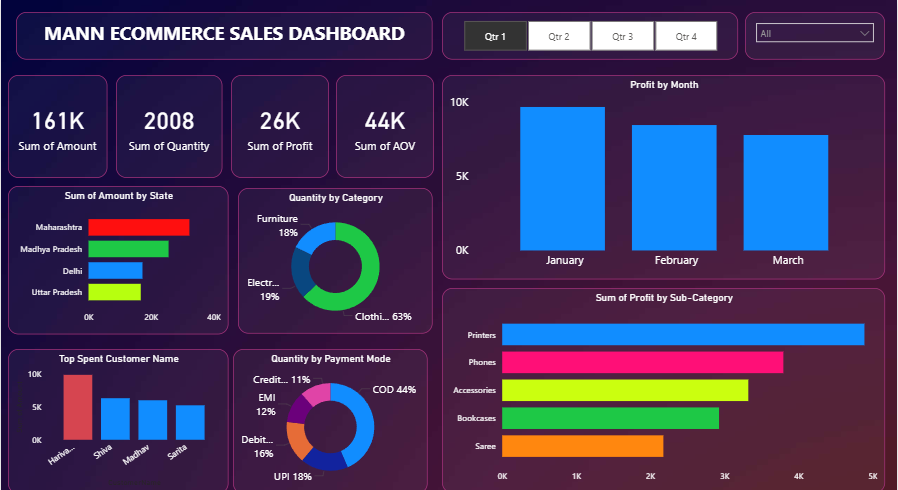

The page's visual inventory and layout, read from the dashboard file:
{"tool":"powerbi","page":{"name":"Page 1","canvas":[1280,720],"ordinal":0},"visuals":[{"type":"textbox","box":[21.7,16.7,595,68.3],"z":0},{"type":"columnChart","title":"Profit by Month","fields":{"Category":["Orders.Order Date.Variation.Date Hierarchy.Month"],"Y":["Sum(Details.Profit)"]},"box":[630,106.7,633.3,291.7],"z":1000},{"type":"barChart","fields":{"Category":["Details.Sub-Category"],"Y":["Sum(Details.Profit)"]},"box":[630,411.7,633.3,293.3],"z":2000},{"type":"donutChart","title":"Quantity by Category","fields":{"Category":["Details.Category"],"Y":["Sum(Details.Quantity)"]},"box":[338.3,268.3,278.3,208.3],"z":3000},{"type":"donutChart","title":"Quantity by Payment Mode","fields":{"Y":["Sum(Details.Quantity)"],"Category":["Details.PaymentMode"]},"box":[331.7,498.3,278.3,206.7],"z":4000},{"type":"card","fields":{"Values":["Sum(Details.Amount)"]},"box":[10,106.7,141.7,146.7],"z":5000},{"type":"card","fields":{"Values":["Sum(Details.Quantity)"]},"box":[165,106.7,151.7,146.7],"z":6000},{"type":"card","fields":{"Values":["Sum(Details.Profit)"]},"box":[328.3,106.7,140,146.7],"z":7000},{"type":"card","fields":{"Values":["Sum(Details.AOV)"]},"box":[478.3,106.7,140,146.7],"z":8000},{"type":"barChart","fields":{"Category":["Orders.State"],"Y":["Sum(Details.Amount)"]},"box":[10,265,315,211.7],"z":9000},{"type":"columnChart","title":" Top Spent Customer Name","fields":{"Category":["Orders.CustomerName"],"Y":["Sum(Details.Amount)"]},"box":[10,498.3,315,206.7],"z":10000},{"type":"slicer","fields":{"Values":["Orders.Order Date.Variation.Date Hierarchy.Quarter"]},"box":[630,16.7,423.3,68.3],"z":11000},{"type":"slicer","fields":{"Values":["Orders.State"]},"box":[1063.3,16.7,200,68.3],"z":12000}]}

Visuals, with their boxes on the page's 1280x720 design canvas (x1, y1, x2, y2). These are canvas units, not pixel positions in the 898x490 screenshot, which may show the page scaled, cropped or inside an application window:
textbox: (x1=22, y1=17, x2=617, y2=85)
"Profit by Month" columnChart: (x1=630, y1=107, x2=1263, y2=398)
barChart - Details.Sub-Category x Sum(Details.Profit): (x1=630, y1=412, x2=1263, y2=705)
"Quantity by Category" donutChart: (x1=338, y1=268, x2=617, y2=477)
"Quantity by Payment Mode" donutChart: (x1=332, y1=498, x2=610, y2=705)
card - Sum(Details.Amount): (x1=10, y1=107, x2=152, y2=253)
card - Sum(Details.Quantity): (x1=165, y1=107, x2=317, y2=253)
card - Sum(Details.Profit): (x1=328, y1=107, x2=468, y2=253)
card - Sum(Details.AOV): (x1=478, y1=107, x2=618, y2=253)
barChart - Orders.State x Sum(Details.Amount): (x1=10, y1=265, x2=325, y2=477)
" Top Spent Customer Name" columnChart: (x1=10, y1=498, x2=325, y2=705)
slicer - Orders.Order Date.Variation.Date Hierarchy.Quarter: (x1=630, y1=17, x2=1053, y2=85)
slicer - Orders.State: (x1=1063, y1=17, x2=1263, y2=85)
